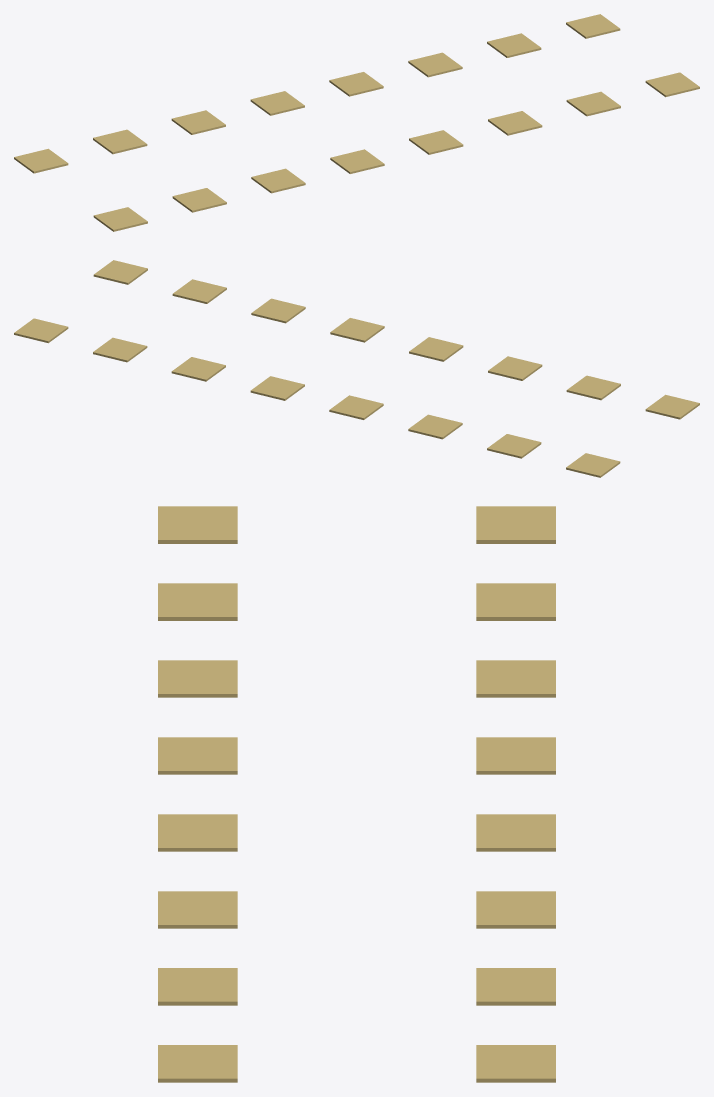
File: 116_L105_PowerContactPads.glb
3 views of the same model, one above another, from view 1: azimuth 30°, elevation 25°; view 2: azimuth 150°, elevation 25°; view 3: azimuth 270°, elevation 25° (orthographic). The views are drawn at different scales.
Visible parts, largest first — view 1: PowerContactPads_gold_0; view 2: PowerContactPads_gold_0; view 3: PowerContactPads_gold_0.
Part boxes in pixels (x1,y1,x2,y2): PowerContactPads_gold_0: (14,14,699,231); PowerContactPads_gold_0: (14,260,699,477); PowerContactPads_gold_0: (158,506,555,1082).
Size of the model in its own units: 0.0255 by 8e-05 by 0.0075.
